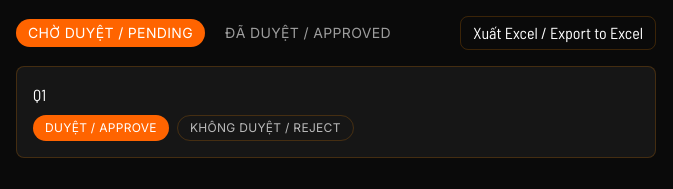
AdminPage › switches to the approved tab and shows "mark as answered"
Step 1. Click the button "Đã duyệt / Approved" → (308, 33), box [213, 19, 403, 47]
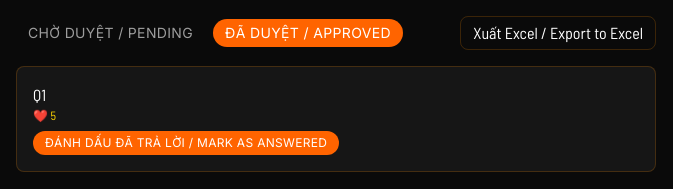
Now the button "Đánh dấu đã trả lời / Mark as answered" is shown, box [33, 131, 339, 155]
